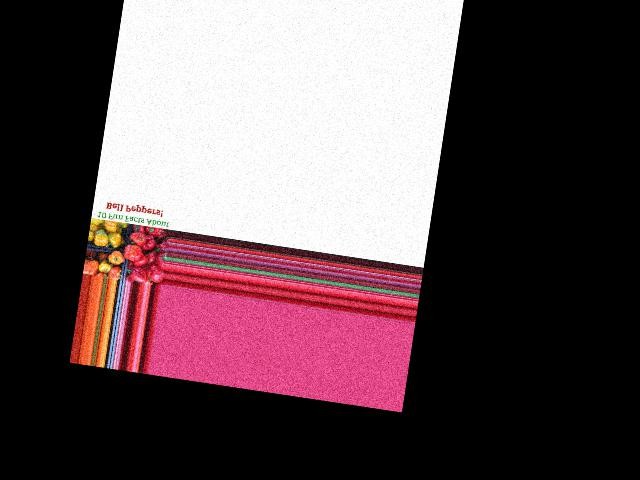bell_pepper: (140, 223, 163, 240)
